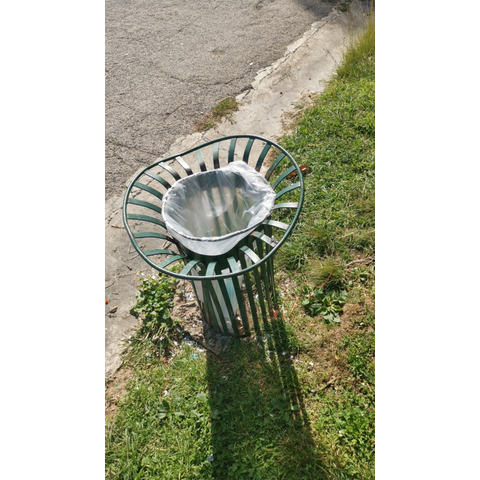poubelle: (118, 132, 313, 345)
